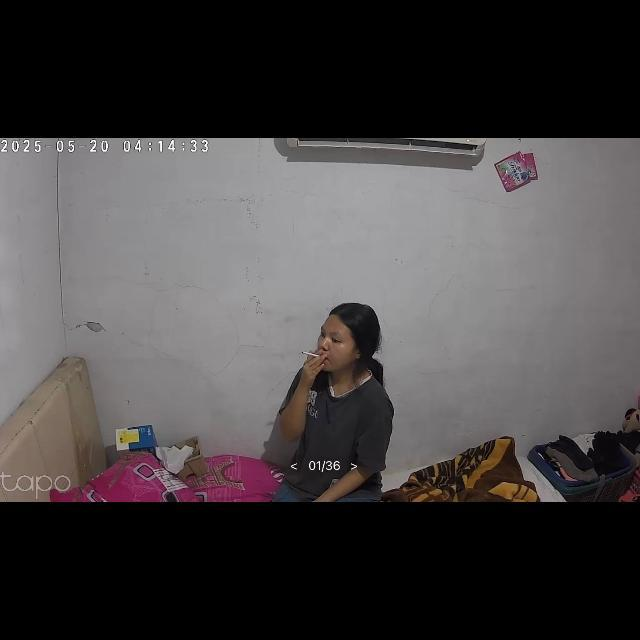rokok: (298, 352, 324, 358)
